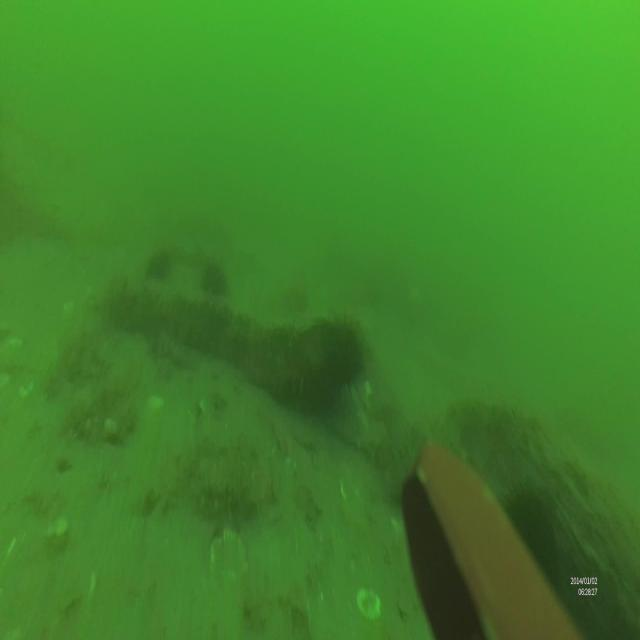echinus: (320, 313, 370, 396), (199, 260, 229, 298), (147, 254, 167, 284)
